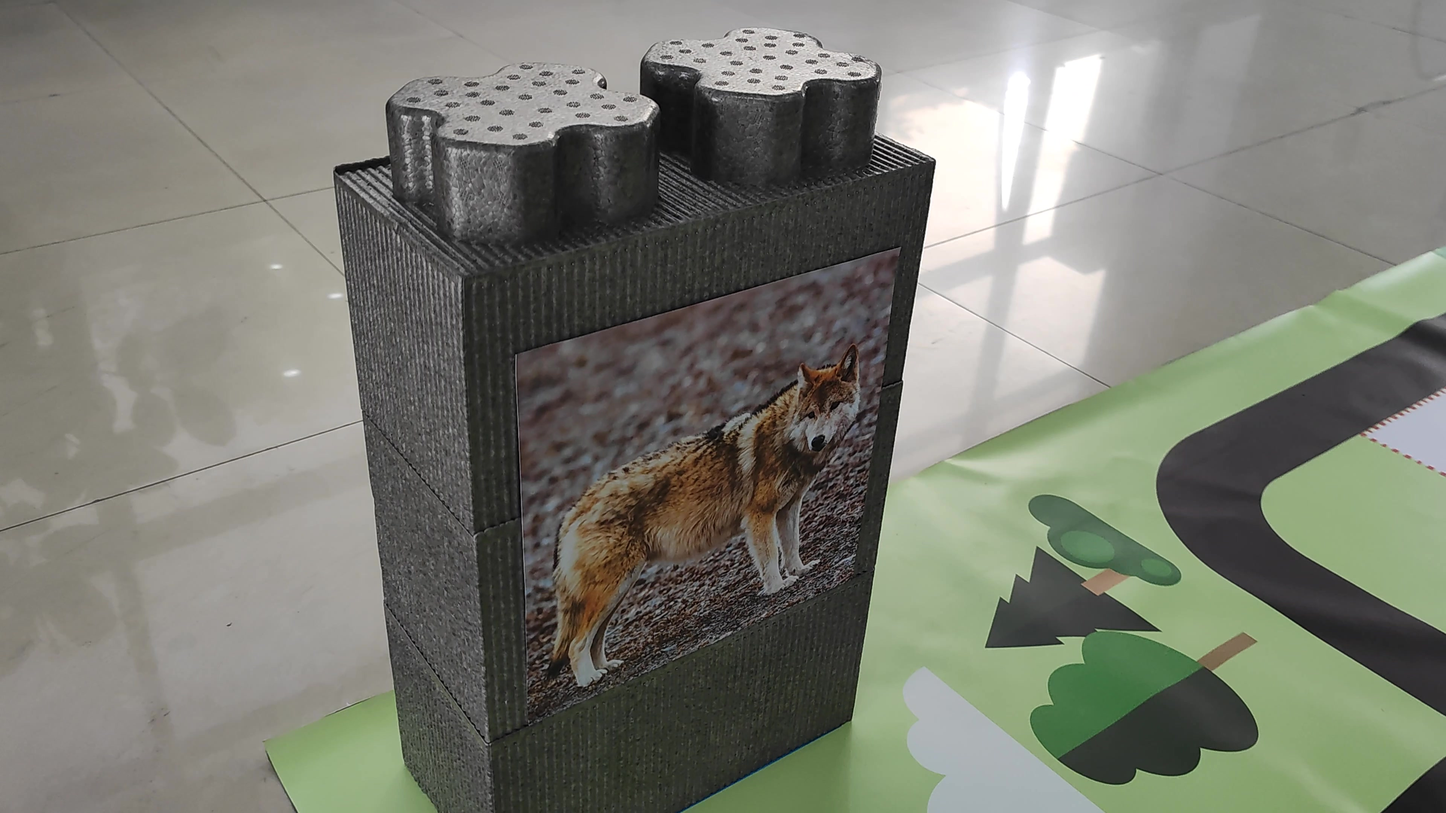wolf: (516, 311, 877, 715)
